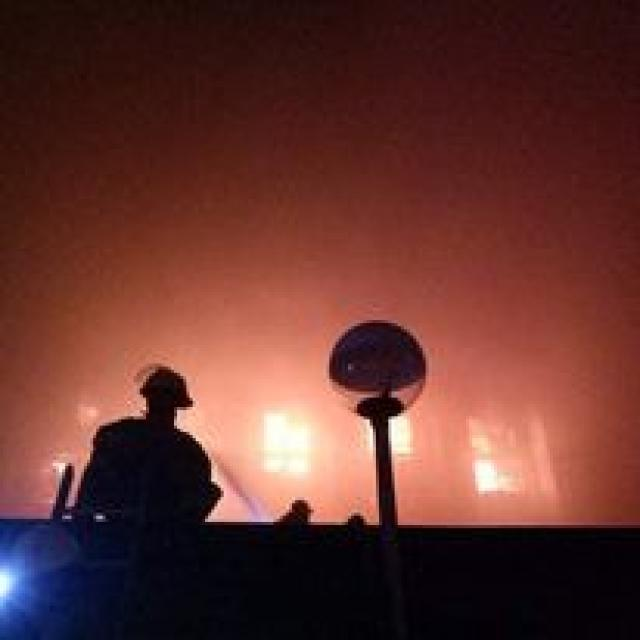Fire: (262, 400, 316, 474), (466, 445, 520, 490)
Smoke: (1, 4, 640, 316)
